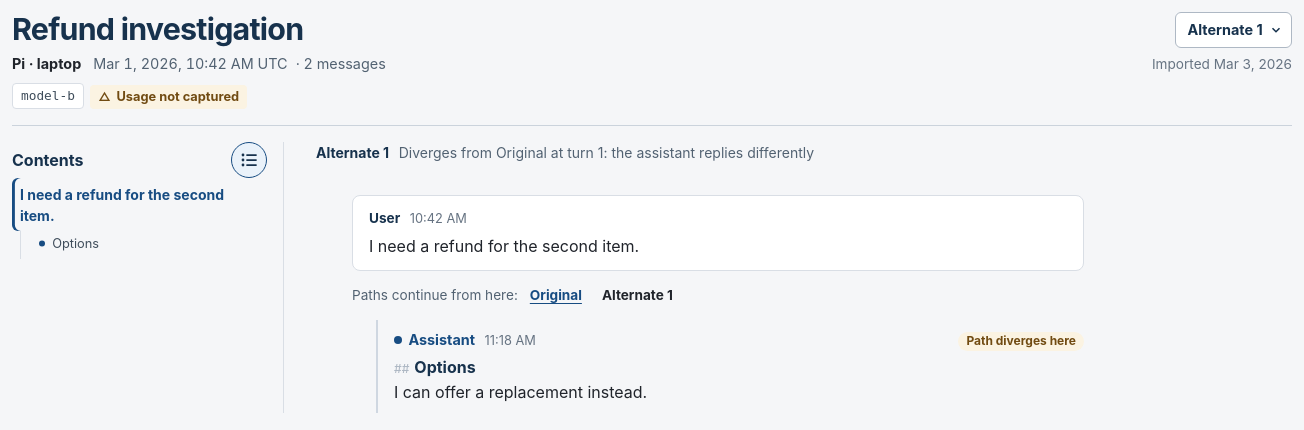
Scenario: conversation reader › opens the outline by default and remembers closing it
Expected: the navigation bar named "Conversation contents" is shown, [12,142,284,413]
Click the button named "Hide contents" at (249, 160), box [231,142,267,178]
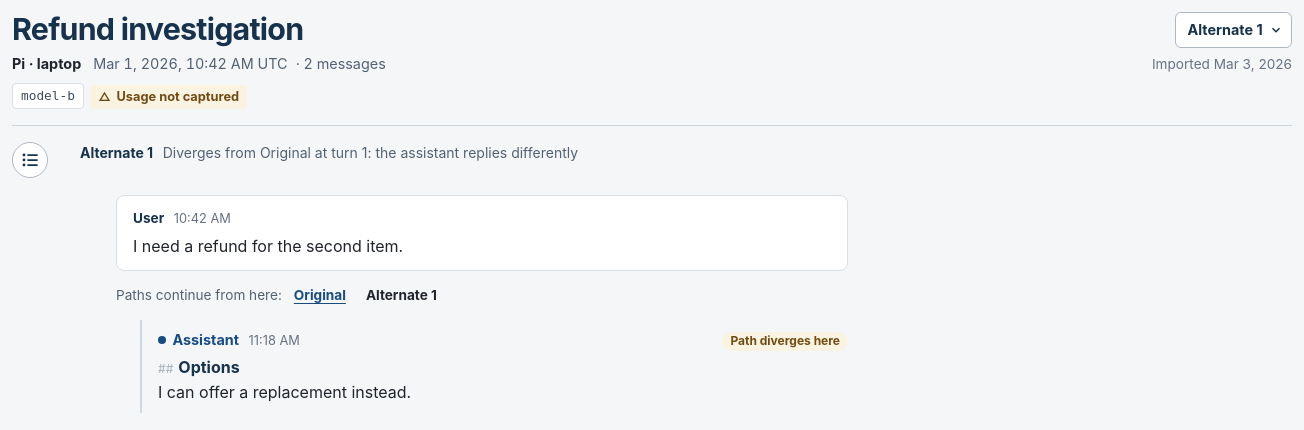
Expected: the button named "Show contents" is collapsed, [12,142,48,178]
